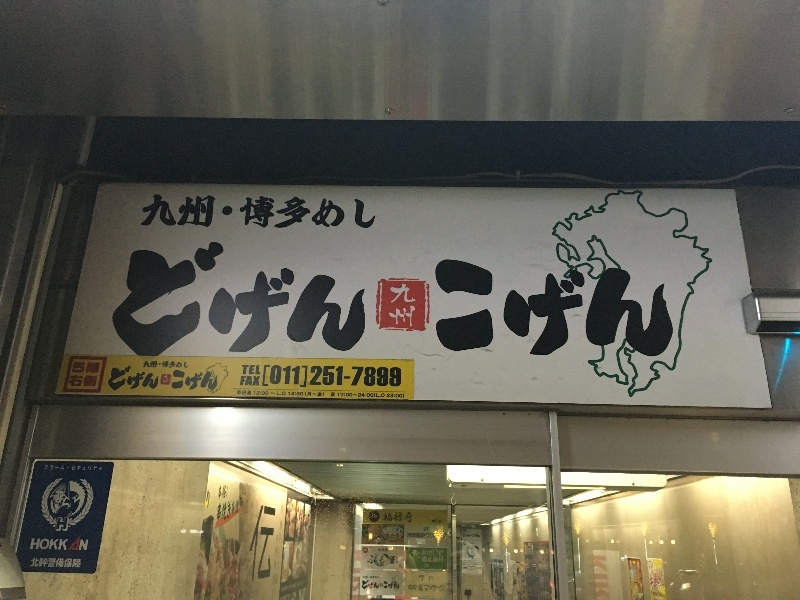text: (129, 233, 144, 360), (145, 233, 160, 360), (161, 233, 176, 360), (177, 233, 192, 360), (193, 233, 208, 360), (209, 233, 224, 360), (225, 233, 240, 360), (241, 233, 256, 360), (257, 233, 272, 360), (273, 233, 288, 360), (289, 233, 304, 360), (305, 233, 320, 360), (321, 233, 336, 360), (337, 233, 352, 360), (449, 247, 464, 361), (465, 247, 480, 361), (481, 247, 496, 361), (497, 247, 512, 361), (513, 247, 528, 361), (529, 247, 544, 361), (545, 247, 560, 361), (561, 247, 576, 361), (577, 247, 592, 361), (593, 247, 608, 361), (609, 247, 624, 361), (625, 247, 640, 361), (641, 247, 656, 361), (657, 247, 672, 361), (353, 233, 366, 360), (436, 247, 448, 361), (257, 505, 272, 581), (276, 521, 288, 600), (121, 233, 128, 360), (593, 556, 608, 600), (401, 284, 416, 327), (145, 195, 160, 230), (161, 195, 176, 230), (177, 195, 192, 230), (193, 195, 208, 230), (209, 195, 224, 230), (241, 195, 256, 230), (257, 195, 272, 230), (273, 195, 288, 230), (289, 195, 304, 230), (305, 195, 320, 230), (321, 195, 336, 230), (337, 195, 352, 230), (353, 195, 368, 230), (390, 284, 400, 327), (385, 365, 401, 389), (113, 366, 128, 391), (129, 366, 144, 391), (145, 366, 160, 391), (273, 365, 288, 389), (289, 365, 304, 389), (305, 365, 320, 389), (321, 365, 336, 389), (337, 365, 352, 389), (353, 365, 368, 389), (369, 365, 384, 389), (225, 500, 239, 523), (177, 370, 192, 390), (193, 370, 208, 390), (225, 195, 233, 230), (369, 195, 376, 230), (253, 505, 256, 581), (273, 505, 276, 581), (33, 536, 48, 551), (49, 536, 64, 551), (65, 536, 80, 551), (209, 370, 218, 390), (81, 362, 96, 374), (81, 375, 96, 387), (265, 365, 272, 389), (385, 512, 400, 523), (465, 563, 480, 574), (649, 567, 656, 590), (657, 567, 664, 590), (242, 365, 256, 376), (33, 558, 48, 568), (49, 558, 64, 568), (65, 558, 80, 568), (369, 555, 384, 565), (218, 500, 224, 523), (241, 377, 256, 386), (401, 512, 413, 523), (81, 536, 89, 551), (385, 581, 400, 589), (673, 247, 674, 361), (145, 361, 161, 368), (162, 361, 176, 369), (385, 555, 396, 565), (71, 375, 80, 387), (81, 465, 96, 472), (385, 527, 400, 534), (163, 376, 176, 384), (369, 580, 379, 590), (386, 533, 400, 540), (177, 361, 189, 369), (419, 585, 432, 592), (433, 585, 445, 592), (419, 576, 432, 582), (257, 391, 272, 396), (289, 392, 304, 397), (305, 392, 320, 397), (353, 393, 368, 398), (369, 393, 384, 398), (385, 393, 400, 398), (49, 465, 64, 470), (417, 533, 432, 538), (74, 362, 80, 374), (471, 546, 480, 554), (338, 393, 352, 398), (58, 518, 64, 529), (433, 557, 444, 563), (273, 391, 286, 396), (71, 465, 80, 472), (173, 370, 176, 390), (220, 485, 224, 500), (422, 557, 432, 563), (465, 534, 480, 538), (408, 585, 416, 592), (433, 551, 444, 556), (110, 366, 112, 391), (363, 580, 368, 590), (422, 551, 432, 556), (97, 362, 101, 374), (225, 485, 228, 500), (407, 533, 416, 538), (257, 365, 261, 376), (241, 391, 252, 395), (609, 556, 610, 600), (424, 527, 432, 532), (424, 564, 432, 569), (143, 195, 144, 230), (97, 465, 102, 472), (65, 518, 68, 529), (369, 576, 380, 579), (443, 533, 448, 539), (257, 377, 260, 386), (65, 465, 70, 470), (331, 393, 336, 397), (379, 548, 384, 552), (207, 490, 208, 509), (209, 490, 210, 509), (321, 392, 324, 397), (401, 393, 404, 398), (45, 465, 48, 470), (363, 576, 368, 579), (97, 375, 98, 387), (237, 391, 240, 395), (385, 548, 388, 552), (383, 512, 384, 523), (463, 563, 464, 574), (481, 563, 482, 574), (254, 391, 256, 396), (81, 558, 82, 568), (401, 527, 402, 534), (433, 576, 434, 582), (433, 533, 434, 538), (463, 534, 464, 538)
